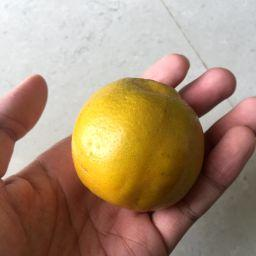Ripe: (72, 79, 205, 205)
